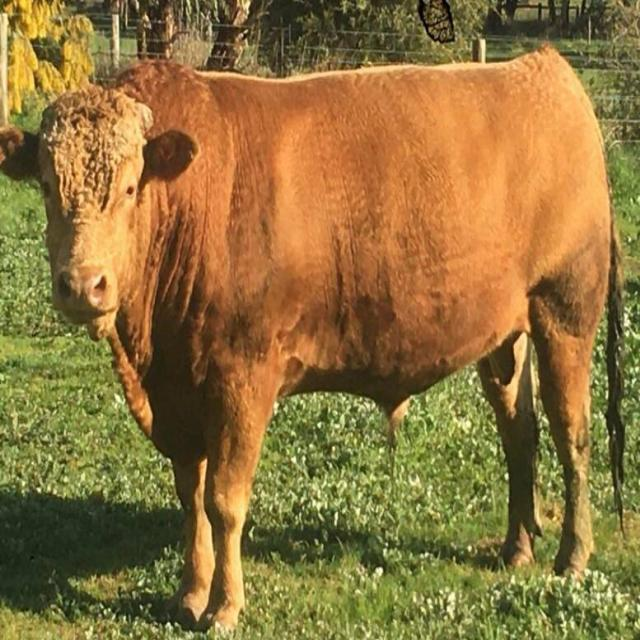cowFace: (3, 52, 212, 350)
